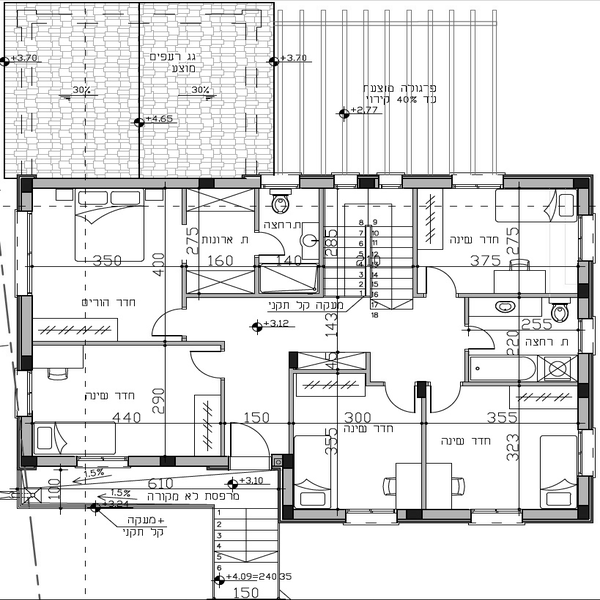door: (226, 418, 273, 460), (384, 375, 427, 420), (427, 380, 471, 419), (250, 224, 293, 262), (421, 261, 466, 296), (190, 347, 229, 386), (151, 307, 191, 343), (467, 319, 497, 354)
room: (6, 175, 192, 350), (419, 373, 600, 526), (16, 342, 232, 469), (410, 164, 598, 300), (287, 350, 427, 522), (188, 169, 330, 296), (319, 168, 425, 304), (456, 287, 588, 387)
wall: (16, 171, 198, 192), (30, 334, 225, 351), (447, 288, 578, 304), (417, 381, 432, 511), (572, 351, 593, 436), (274, 454, 299, 522), (127, 453, 231, 469), (395, 504, 472, 524), (16, 296, 37, 369), (411, 185, 424, 300), (315, 185, 328, 294), (463, 377, 577, 389), (569, 176, 598, 223), (286, 369, 301, 454), (287, 506, 347, 527), (217, 375, 233, 450), (178, 291, 327, 299), (501, 174, 573, 190), (17, 418, 37, 474), (401, 168, 454, 189), (524, 508, 596, 523), (292, 365, 370, 378), (211, 172, 263, 189), (34, 452, 81, 469), (303, 174, 337, 194), (574, 255, 600, 281), (250, 255, 266, 297), (575, 476, 600, 502), (178, 256, 192, 296), (247, 189, 260, 231), (178, 194, 194, 224)
window: (14, 211, 38, 294), (447, 169, 506, 192), (74, 448, 127, 472), (15, 369, 39, 415), (346, 505, 396, 527), (469, 505, 527, 523), (265, 170, 303, 191), (377, 170, 404, 187), (338, 173, 360, 189)
